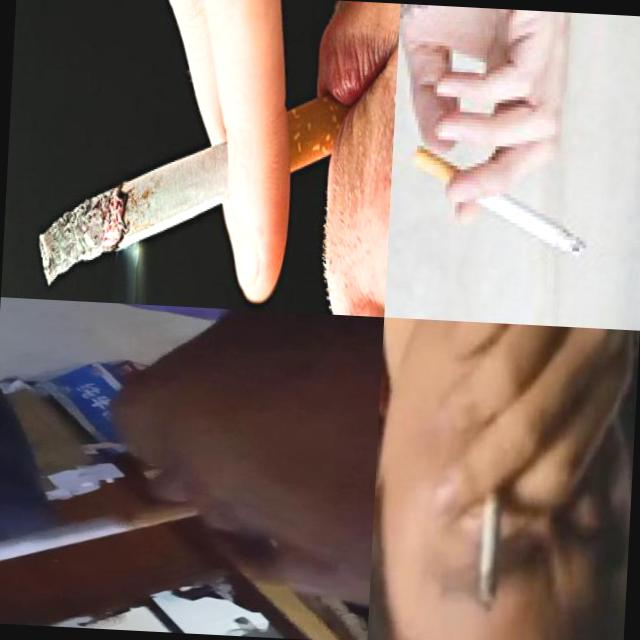smoke: (36, 62, 366, 300), (408, 146, 594, 260), (0, 490, 202, 587), (474, 488, 506, 614)
